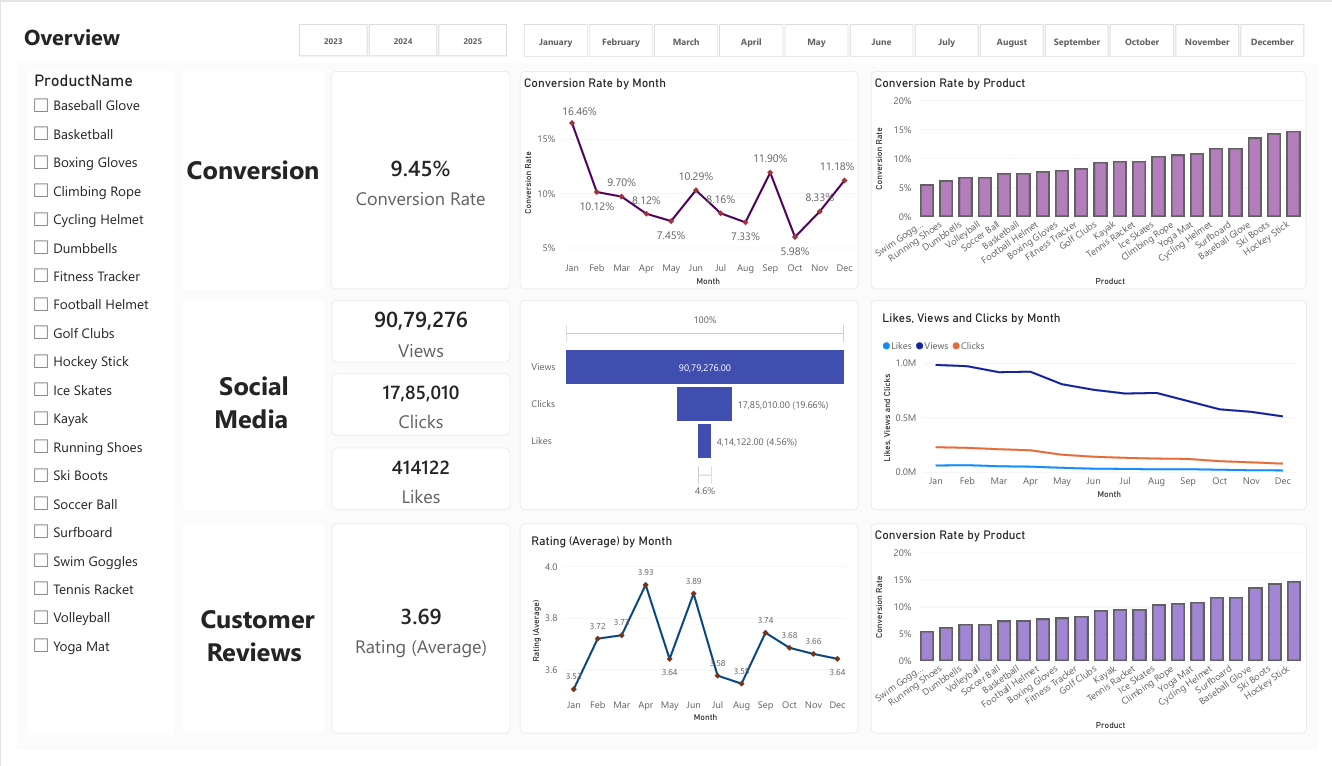

The dashboard page shown, as its layout file describes it:
{"tool":"powerbi","page":{"name":"Overview","canvas":[1920,1080],"ordinal":0},"visuals":[{"type":"card","fields":{"Values":["_Calculations.Clicks"]},"box":[464,524,264,92],"z":0},{"type":"card","fields":{"Values":["Calendar.Conversion Rate"]},"box":[463.3,78.3,265,321.7],"z":1000},{"type":"textbox","box":[0,0,1920,65],"z":2000},{"type":"textbox","box":[245,78.3,206.7,321.7],"z":3000},{"type":"slicer","fields":{"Values":["dim_products.ProductName"]},"box":[16.7,78.3,215,978.3],"z":4000},{"type":"textbox","box":[246,416,207,310],"z":5000},{"type":"textbox","box":[246,746,207,310],"z":6000},{"type":"card","fields":{"Values":["_Calculations.Views"]},"box":[464,416,264,92],"z":7000},{"type":"card","fields":{"Values":["_Calculations.Likes"]},"box":[464,634,264,92],"z":8000},{"type":"card","fields":{"Values":["_Calculations.Rating (Average)"]},"box":[464,746,264,310],"z":9000},{"type":"lineChart","title":"Conversion Rate by Month","fields":{"Category":["Calendar.MonthNameShort"],"Y":["_Calculations.Conversion Rate"]},"box":[741.7,78.3,500,321.7],"z":12000},{"type":"clusteredColumnChart","title":"Conversion Rate by Product","fields":{"Category":["dim_products.ProductName"],"Y":["_Calculations.Conversion Rate"]},"box":[1260,78.3,643.3,321.7],"z":13000},{"type":"lineChart","title":"Likes, Views and Clicks by Month","fields":{"Category":["Calendar.MonthNameShort"],"Y":["_Calculations.Likes","_Calculations.Views","_Calculations.Clicks"]},"box":[1260,416,644,310],"z":14000},{"type":"funnel","fields":{"Y":["_Calculations.Views","_Calculations.Clicks","_Calculations.Likes"]},"box":[742,416,500,310],"z":15000},{"type":"lineChart","title":"Rating (Average) by Month","fields":{"Category":["Calendar.MonthNameShort"],"Y":["_Calculations.Rating (Average)"]},"box":[742,746,500,310],"z":16000},{"type":"clusteredColumnChart","title":"Conversion Rate by Product","fields":{"Category":["dim_products.ProductName"],"Y":["_Calculations.Conversion Rate"]},"box":[1260,746,644,310],"z":17000},{"type":"slicer","fields":{"Values":["Calendar.Date.Variation.Date Hierarchy.Month"]},"box":[726.7,6.7,1192,52],"z":17001},{"type":"slicer","fields":{"Values":["Calendar.Year"]},"box":[395,6.7,346.7,51.7],"z":17002}]}

Visuals, with their boxes in screenshot pixels (x1, y1, x2, y2), scaled from the page's 1920x1080 canvas onto the 1332x766 screenshot:
card - _Calculations.Clicks: {"left": 322, "top": 372, "right": 505, "bottom": 437}
card - Calendar.Conversion Rate: {"left": 321, "top": 56, "right": 505, "bottom": 284}
textbox: {"left": 0, "top": 0, "right": 1331, "bottom": 46}
textbox: {"left": 170, "top": 56, "right": 313, "bottom": 284}
slicer - dim_products.ProductName: {"left": 12, "top": 56, "right": 161, "bottom": 749}
textbox: {"left": 171, "top": 295, "right": 314, "bottom": 515}
textbox: {"left": 171, "top": 529, "right": 314, "bottom": 749}
card - _Calculations.Views: {"left": 322, "top": 295, "right": 505, "bottom": 360}
card - _Calculations.Likes: {"left": 322, "top": 450, "right": 505, "bottom": 515}
card - _Calculations.Rating (Average): {"left": 322, "top": 529, "right": 505, "bottom": 749}
"Conversion Rate by Month" lineChart: {"left": 515, "top": 56, "right": 861, "bottom": 284}
"Conversion Rate by Product" clusteredColumnChart: {"left": 874, "top": 56, "right": 1320, "bottom": 284}
"Likes, Views and Clicks by Month" lineChart: {"left": 874, "top": 295, "right": 1321, "bottom": 515}
funnel - _Calculations.Views x _Calculations.Clicks: {"left": 515, "top": 295, "right": 862, "bottom": 515}
"Rating (Average) by Month" lineChart: {"left": 515, "top": 529, "right": 862, "bottom": 749}
"Conversion Rate by Product" clusteredColumnChart: {"left": 874, "top": 529, "right": 1321, "bottom": 749}
slicer - Calendar.Date.Variation.Date Hierarchy.Month: {"left": 504, "top": 5, "right": 1331, "bottom": 42}
slicer - Calendar.Year: {"left": 274, "top": 5, "right": 515, "bottom": 41}
